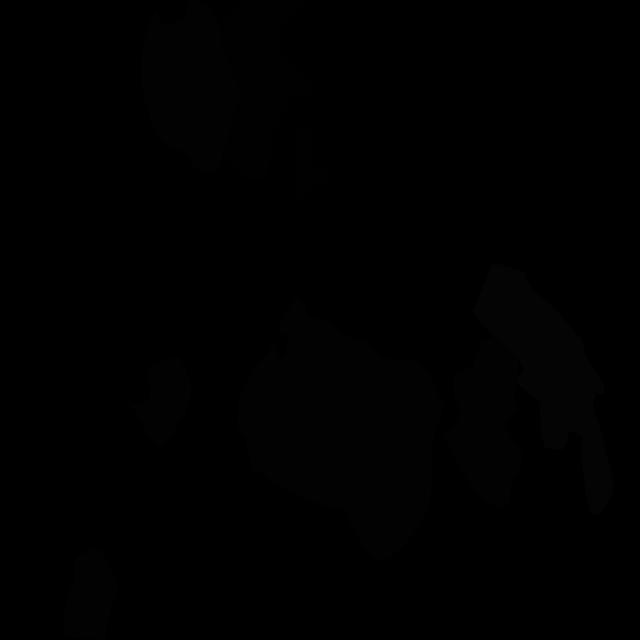cardboard: (237, 297, 444, 559), (141, 0, 240, 174), (444, 338, 522, 510), (128, 356, 192, 450), (64, 548, 119, 640)
rigid_plastic: (220, 0, 317, 180), (293, 121, 329, 202)
soft_plastic: (472, 262, 613, 516)
